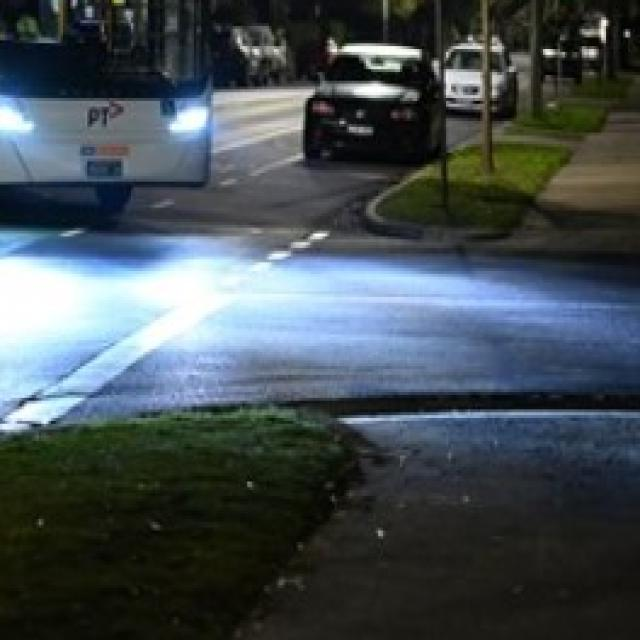bus: (0, 0, 213, 213)
car: (304, 39, 448, 165), (433, 40, 519, 121)
